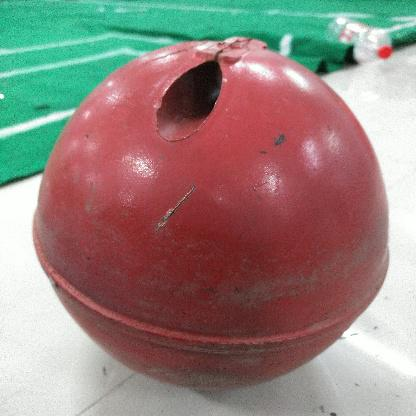red_buoy: (32, 42, 390, 394)
